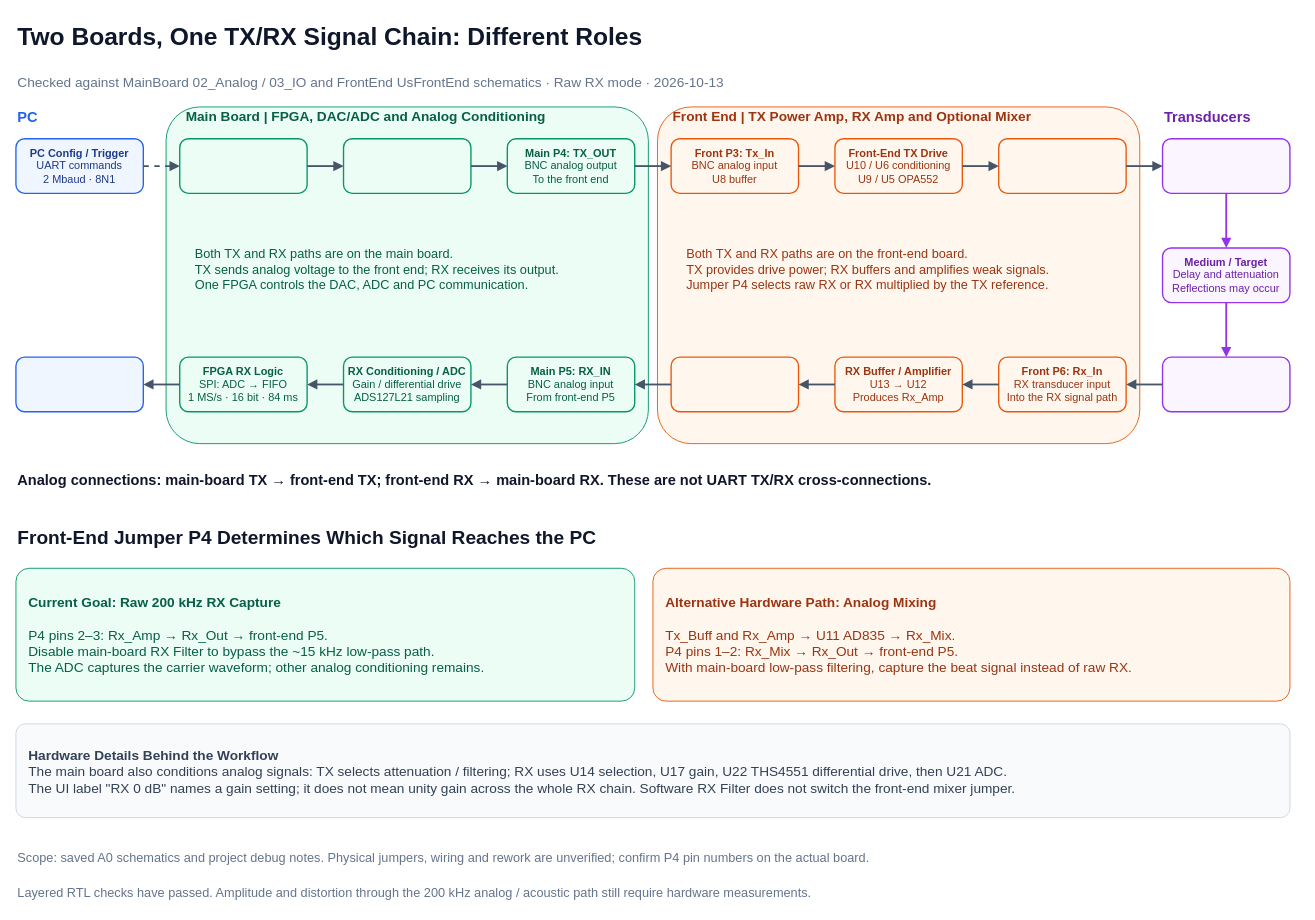
Image size: 1315x920. Some labels were removed from this diagram. The shapes that lost their labels are listed below. From the top down, each one's centre as x and y in pixels, then its label:
(x=243, y=166): FPGA TX Logic Chirp → DAC codes 190–210 kHz / 80 ms
(x=406, y=166): DAC + TX Conditioning U9 DAC904 Attenuation / filter / buffer
(x=1062, y=166): Front P2: TX Output Tx_Out_P / Tx_Out_N Differential probe drive
(x=1225, y=166): TX Transducer Voltage → ultrasound
(x=79, y=384): UART → PC Display C# frame parsing Plot / save RX samples
(x=734, y=384): Front P4 Select → P5 Raw mode: Rx_Amp P5: Rx_Out BNC
(x=1225, y=384): RX Transducer Ultrasound → weak voltage
